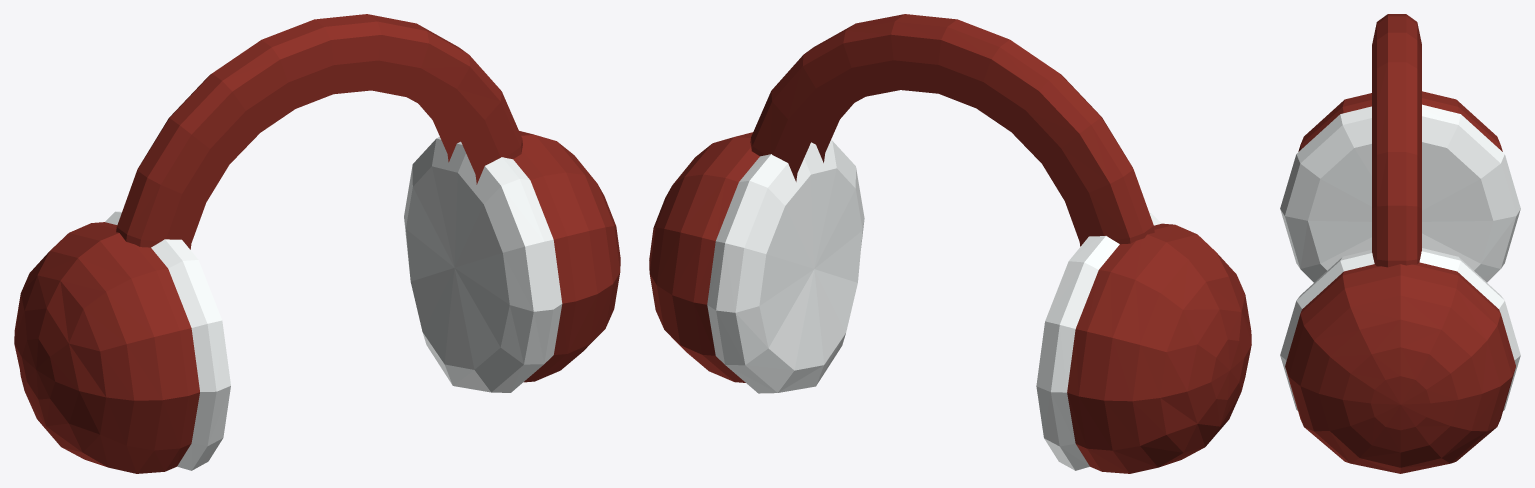
File: CharSkyKid_Horn_AP04EarMuffs.glb
3 views of the same model, side by side, from view 1: azimuth 30°, elevation 25°; view 2: azimuth 150°, elevation 25°; view 3: azimuth 270°, elevation 25° (orthographic). The views are drawn at different scales.
Parts seen in each view (by area): view 1: CharSkyKid_Horn_AP04EarMuffs; view 2: CharSkyKid_Horn_AP04EarMuffs; view 3: CharSkyKid_Horn_AP04EarMuffs.
Part boxes in pixels (x1,y1,x2,y2): CharSkyKid_Horn_AP04EarMuffs: [14, 14, 620, 473]; CharSkyKid_Horn_AP04EarMuffs: [649, 14, 1251, 473]; CharSkyKid_Horn_AP04EarMuffs: [1280, 14, 1520, 473].
Size of the model in its own units: 3.66 by 2.5 by 1.52.
Materials: 1 (1 with a texture image).
